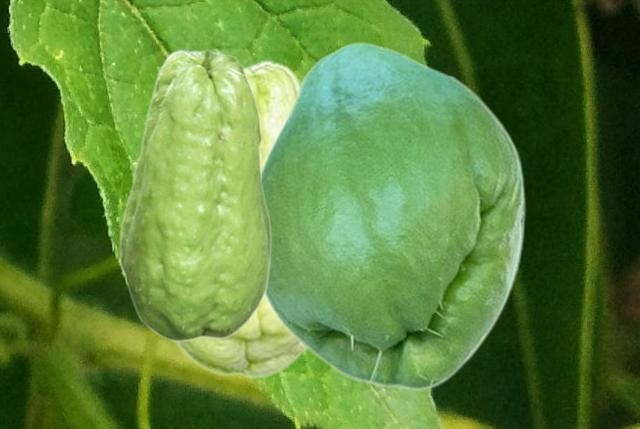sayote: (262, 42, 525, 391), (118, 48, 272, 342), (169, 59, 308, 378)
